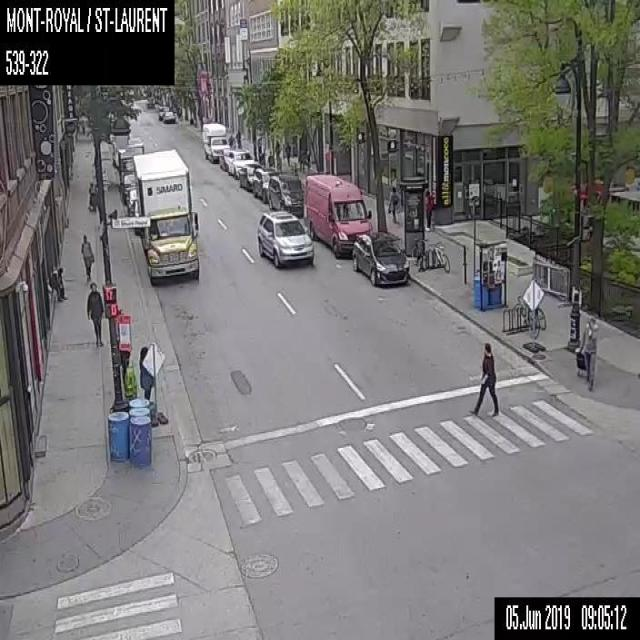construction: (142, 341, 168, 425)
pedestrian: (471, 339, 499, 416), (574, 316, 598, 391), (86, 281, 104, 347), (138, 344, 152, 399), (48, 266, 68, 300), (80, 233, 94, 281), (386, 185, 400, 223), (119, 349, 131, 383), (423, 188, 432, 231), (297, 145, 306, 172), (284, 141, 291, 166), (266, 149, 274, 167), (274, 139, 281, 158), (228, 134, 235, 148), (235, 128, 240, 147)
vehicle: (132, 147, 199, 284), (304, 174, 371, 258), (351, 231, 409, 289), (256, 209, 313, 266), (115, 136, 144, 190), (268, 173, 304, 216), (202, 121, 229, 162), (252, 168, 279, 202), (227, 148, 255, 180), (238, 162, 264, 192), (119, 172, 135, 204), (219, 148, 235, 170), (126, 188, 136, 216), (157, 105, 168, 119), (162, 110, 175, 121), (146, 96, 154, 109), (111, 141, 115, 164)
